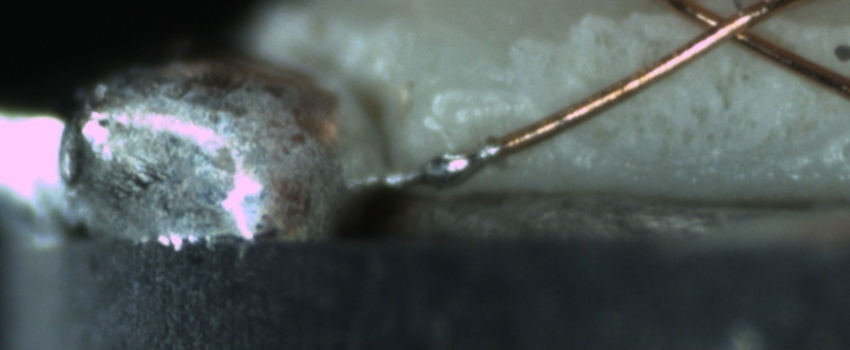CL: (679, 1, 776, 55)
TB: (419, 144, 476, 190)
TS: (387, 140, 507, 190)
TTCW: (349, 121, 541, 193)
